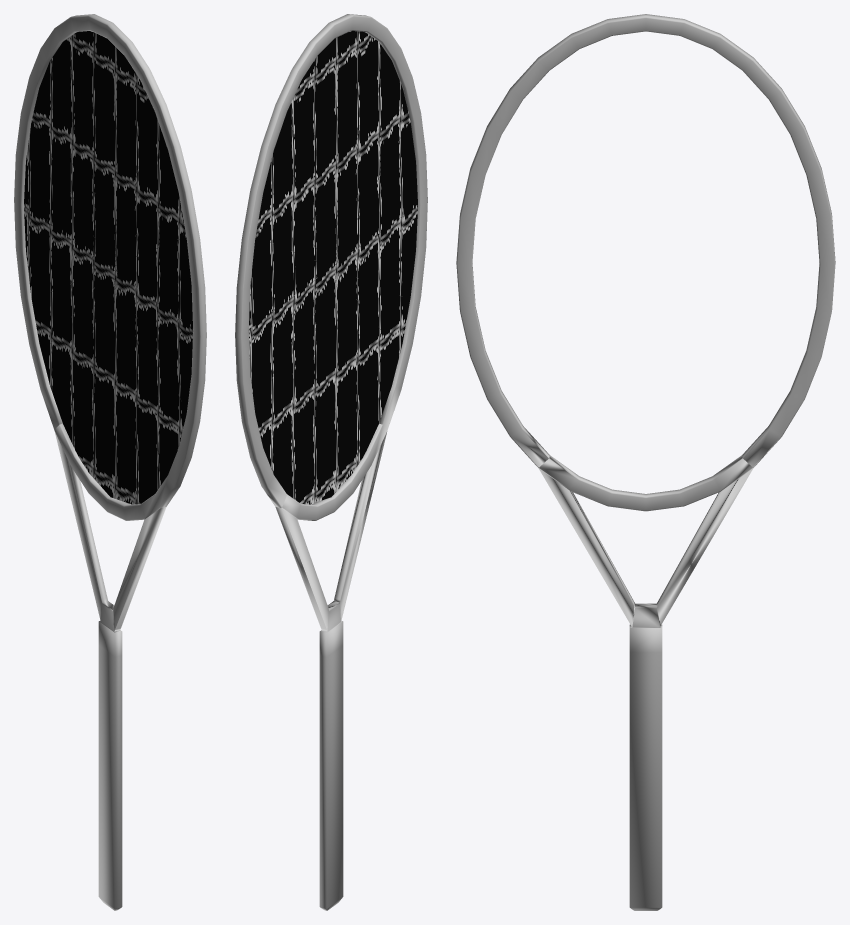
The model's file is raqueta roja.fbx.
3 renders of one model, left to right at view 1: azimuth 30°, elevation 25°; view 2: azimuth 150°, elevation 25°; view 3: azimuth 270°, elevation 25°, orthographic.
Parts seen in each view (by area): view 1: Plane.002, Circle; view 2: Plane.002, Circle; view 3: Circle.
Part boxes in pixels (left/top/right/bottom): Plane.002: left=24, top=31, right=193, bottom=504; Circle: left=14, top=14, right=206, bottom=910; Plane.002: left=248, top=31, right=417, bottom=504; Circle: left=235, top=14, right=427, bottom=910; Circle: left=456, top=14, right=835, bottom=910.
Bounding box in the file's own units: 3.24 × 385 × 148.
